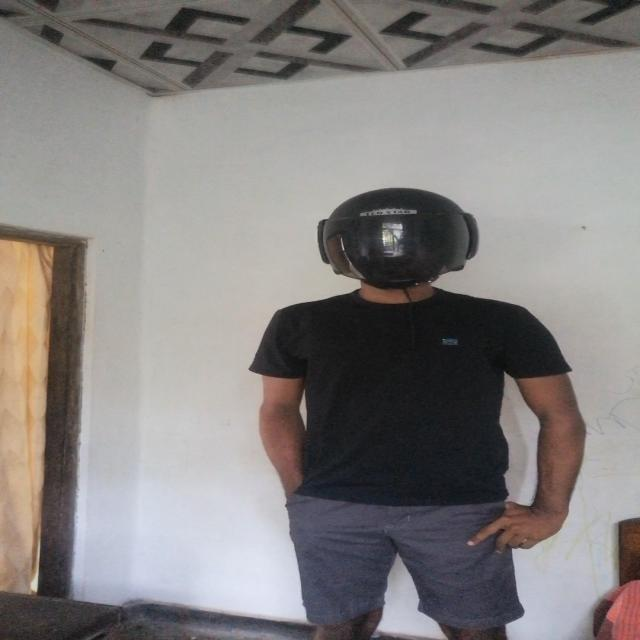Helmet_Wearer: (311, 179, 492, 311)
Person: (235, 178, 568, 638)
